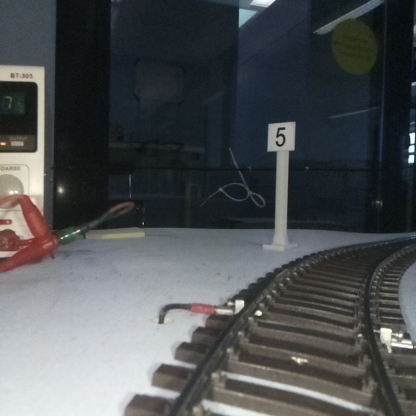white-info-5: (268, 123, 295, 247)
